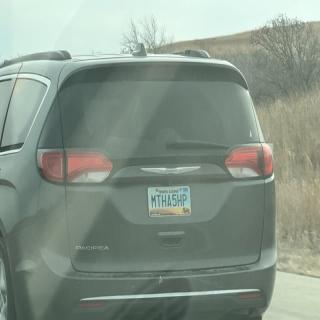license: (148, 187, 193, 218)
